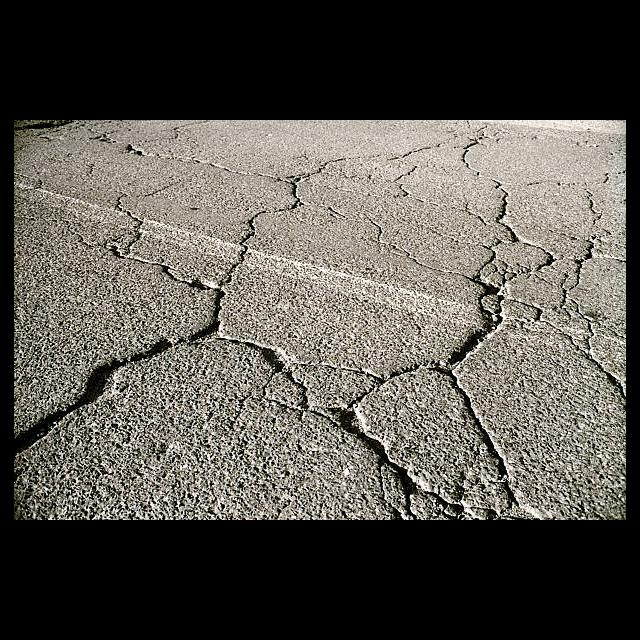retak_memanjang: (14, 163, 339, 466), (412, 132, 540, 520), (538, 176, 626, 396)
